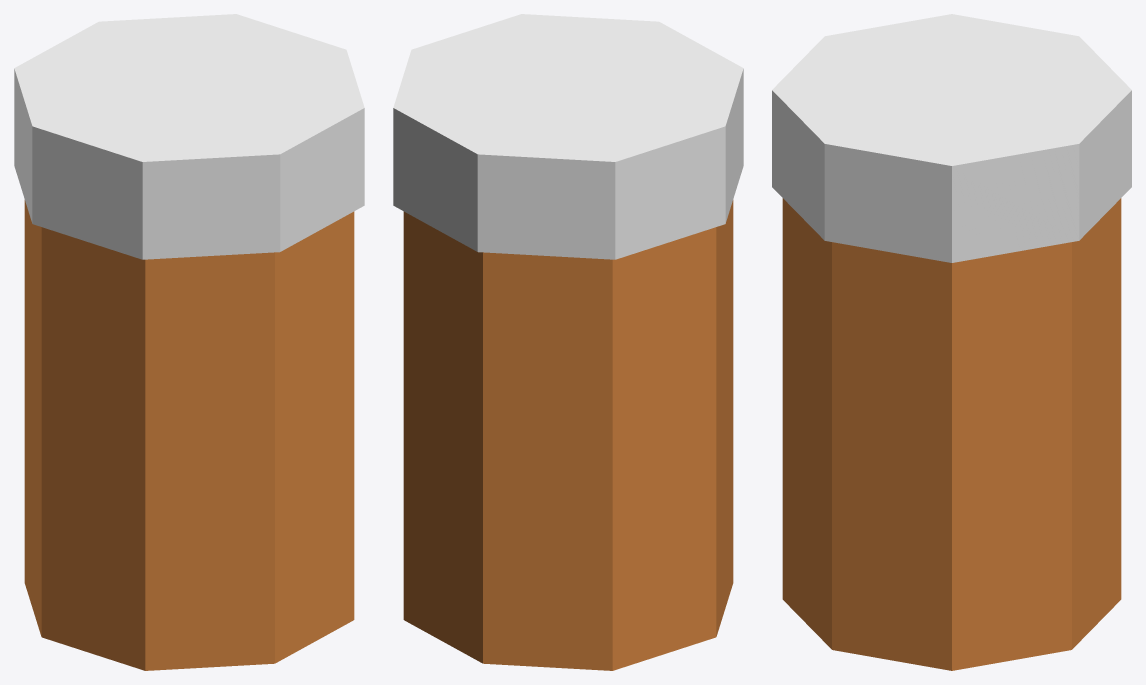
The model's file is mde-bottle.fbx.
The picture shows the model from 3 angles, left to right: view 1: azimuth 30°, elevation 25°; view 2: azimuth 150°, elevation 25°; view 3: azimuth 270°, elevation 25°; orthographic projection.
Parts seen in each view (by area): view 1: bottom, Lid; view 2: bottom, Lid; view 3: bottom, Lid.
Part boxes in pixels (x1,y1,x2,y2): bottom: (24,200,354,670); Lid: (14,14,364,259); bottom: (403,200,733,670); Lid: (393,14,743,259); bottom: (782,198,1121,670); Lid: (772,14,1131,262).
Size of the model in its own units: 212 by 332 by 212.
